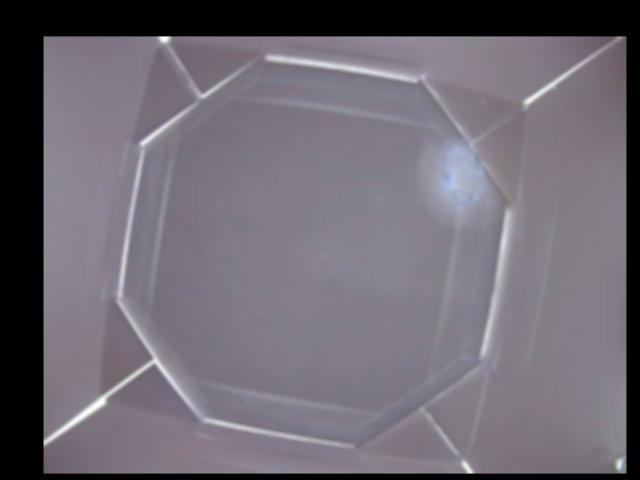Pebble: (437, 136, 481, 203)
